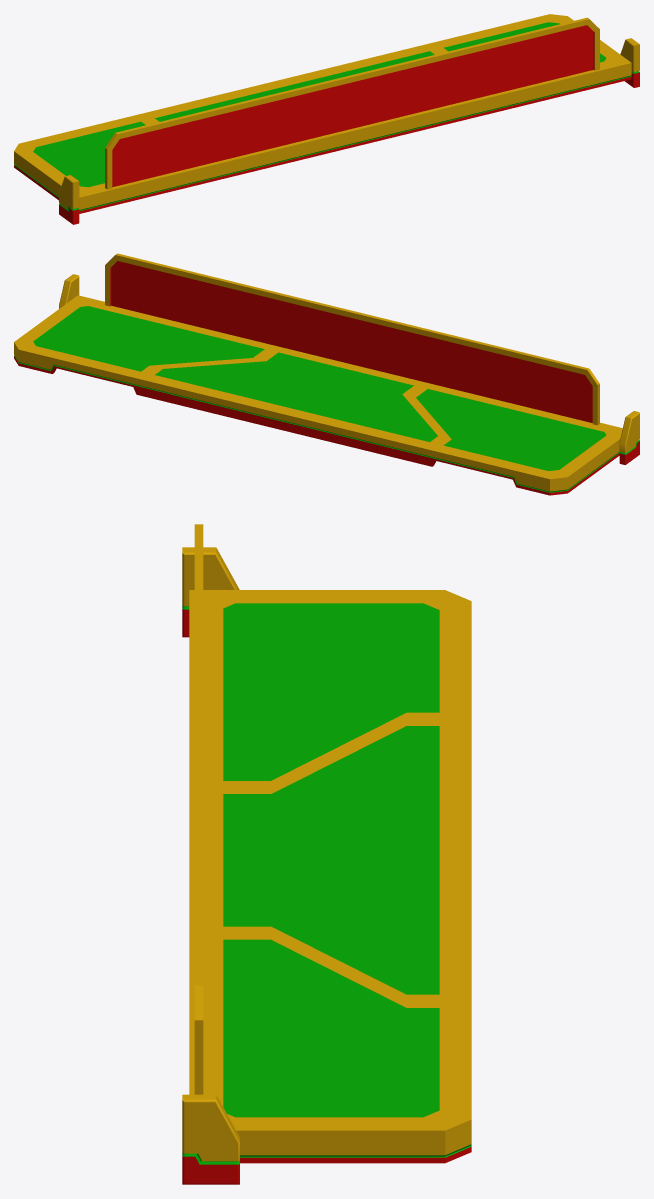
Rendered from SM0156_Lobby_Shelf_02.fbx.
3 views of the same model, one above another, from view 1: azimuth 30°, elevation 25°; view 2: azimuth 150°, elevation 25°; view 3: azimuth 270°, elevation 25° (orthographic). The views are drawn at different scales.
Visible parts, largest first — view 1: SM0156_Lobby_Shelf_02; view 2: SM0156_Lobby_Shelf_02; view 3: SM0156_Lobby_Shelf_02.
Boxes of the visible parts, <box> form: SM0156_Lobby_Shelf_02: <box>14,14,639,224</box>; SM0156_Lobby_Shelf_02: <box>14,253,639,495</box>; SM0156_Lobby_Shelf_02: <box>182,524,471,1184</box>.
Bounding box in the file's own units: 1063 × 235 × 138.
